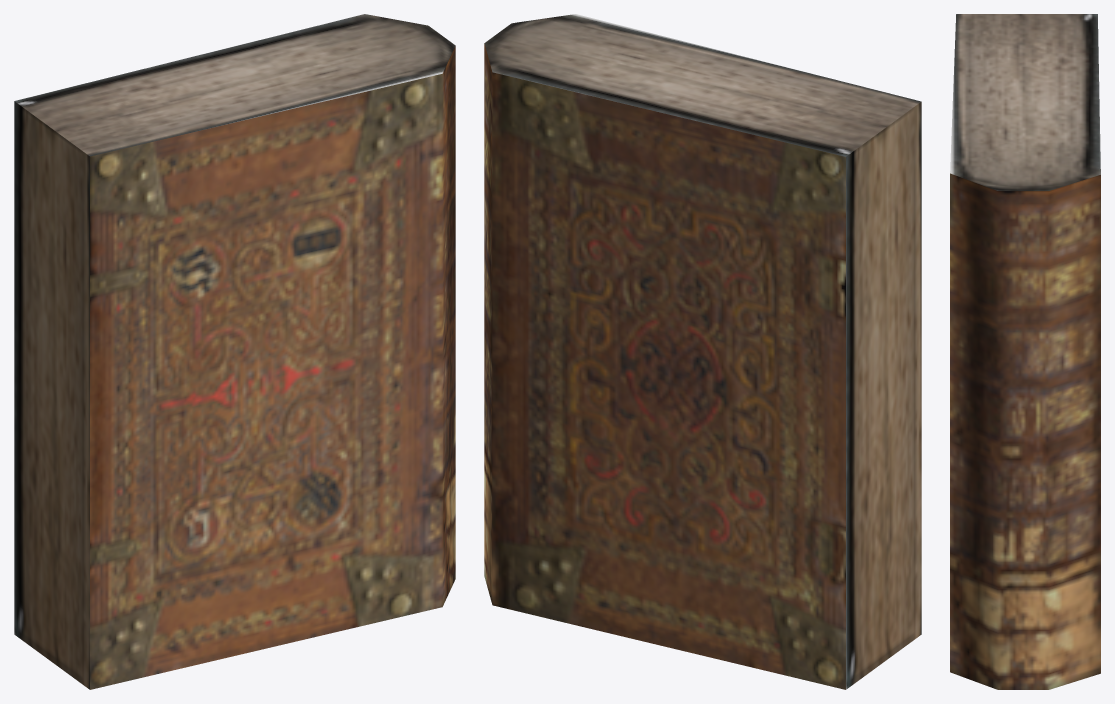
The model's file is Prop_Sm_BookSingle_2_A.fbx.
3 views of the same model, side by side, from view 1: azimuth 30°, elevation 25°; view 2: azimuth 150°, elevation 25°; view 3: azimuth 270°, elevation 25° (orthographic). The views are drawn at different scales.
Visible parts, largest first — view 1: Tomb_2_low_1:polySurface27; view 2: Tomb_2_low_1:polySurface27; view 3: Tomb_2_low_1:polySurface27.
Boxes of the visible parts, bbox=[...] form: Tomb_2_low_1:polySurface27: bbox=[14, 14, 455, 689]; Tomb_2_low_1:polySurface27: bbox=[484, 14, 921, 689]; Tomb_2_low_1:polySurface27: bbox=[950, 14, 1100, 689].
Size of the model in its own units: 0.2388 by 0.3138 by 0.086.
